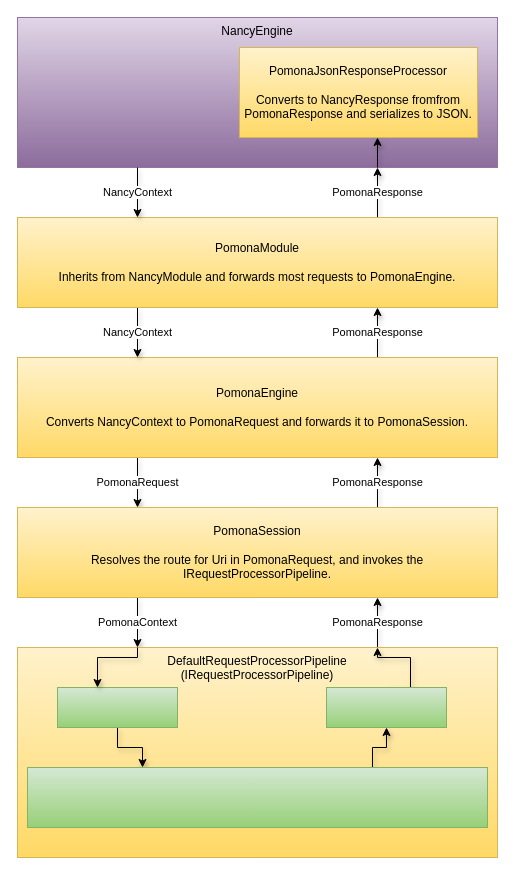
Image size: 515x875. Some labels were removed from this diagram. Here are the shapes that lost their labels. From the top down, the centre of each, then its label:
the point at 117,707: Before hooks
the point at 386,707: After hooks
the point at 257,797: Route actions (handlers, data source etc)
